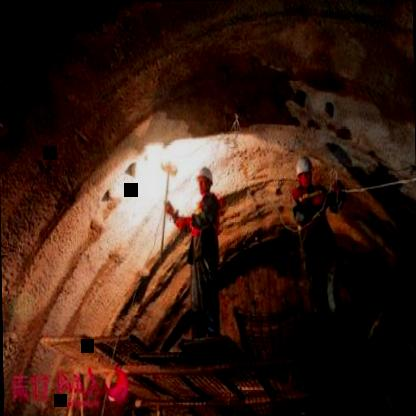helmet: (294, 154, 314, 192), (196, 162, 214, 198)
